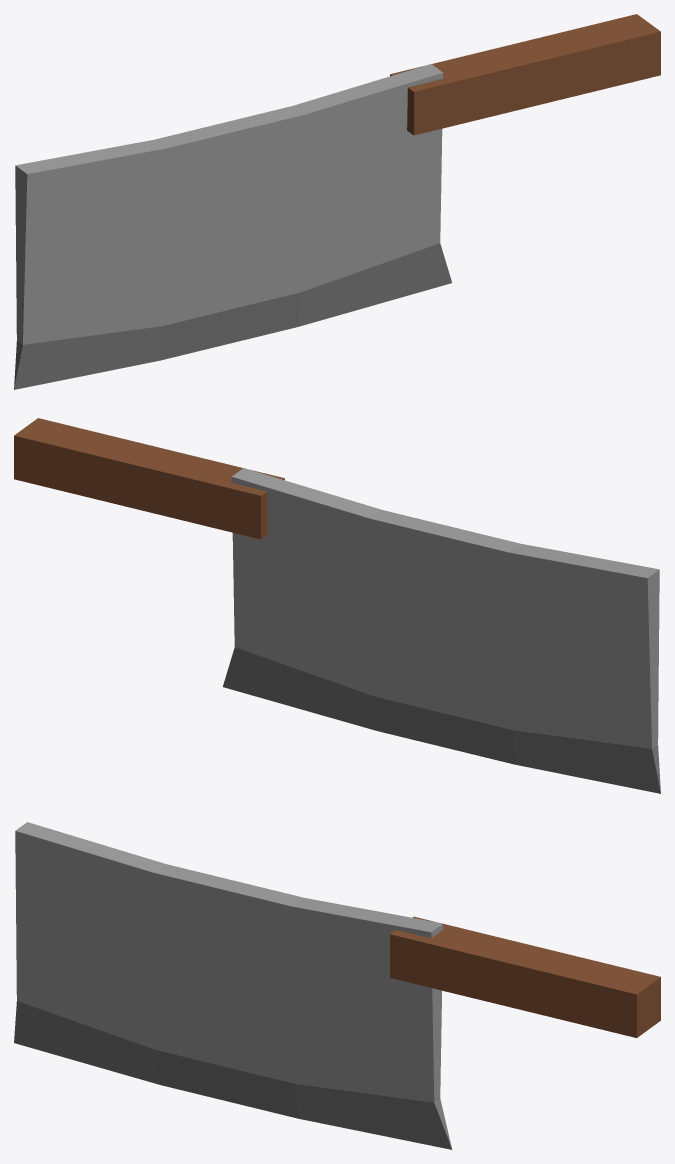
The model's file is Butchers_Knife.fbx.
The picture shows the model from 3 angles, top to bottom: view 1: azimuth 30°, elevation 25°; view 2: azimuth 150°, elevation 25°; view 3: azimuth 330°, elevation 25°; orthographic projection.
Visible parts, largest first — view 1: pCube3; view 2: pCube3; view 3: pCube3.
Boxes of the visible parts, <box> form: pCube3: <box>14,14,660,389</box>; pCube3: <box>14,418,660,793</box>; pCube3: <box>14,822,660,1149</box>.
Bounding box in the file's own units: 30.43 × 10.29 × 2.
